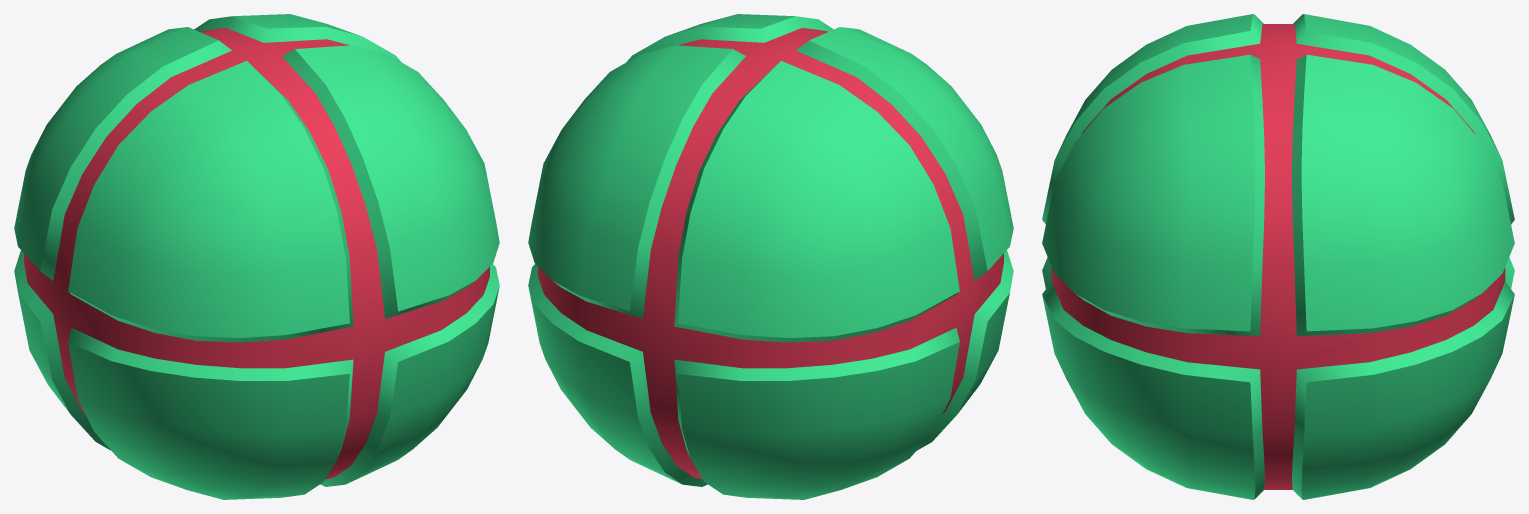
Rendered from TestBall.FBX.
The picture shows the model from 3 angles, left to right: view 1: azimuth 30°, elevation 25°; view 2: azimuth 150°, elevation 25°; view 3: azimuth 270°, elevation 25°; orthographic projection.
Parts seen in each view (by area): view 1: Ball; view 2: Ball; view 3: Ball.
Boxes of the visible parts, bbox=[...] form: Ball: bbox=[14, 14, 499, 499]; Ball: bbox=[528, 14, 1013, 499]; Ball: bbox=[1042, 14, 1514, 499].
Size of the model in its own units: 32.35 by 32.35 by 32.35.
